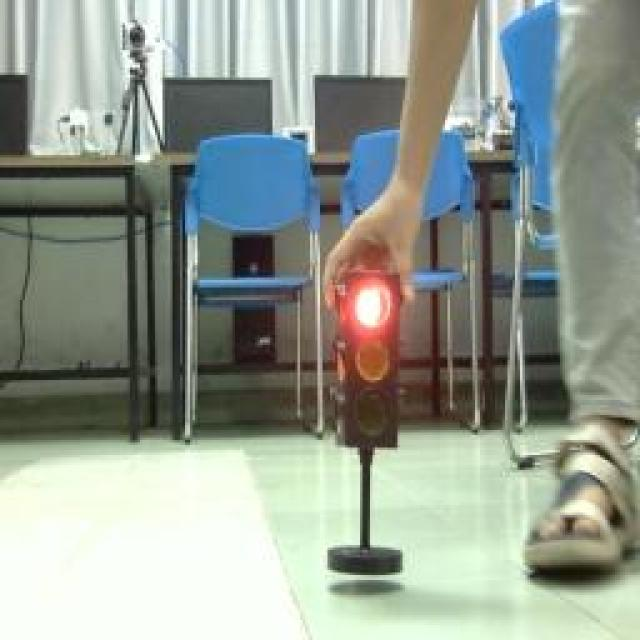-: (351, 281, 393, 329)
